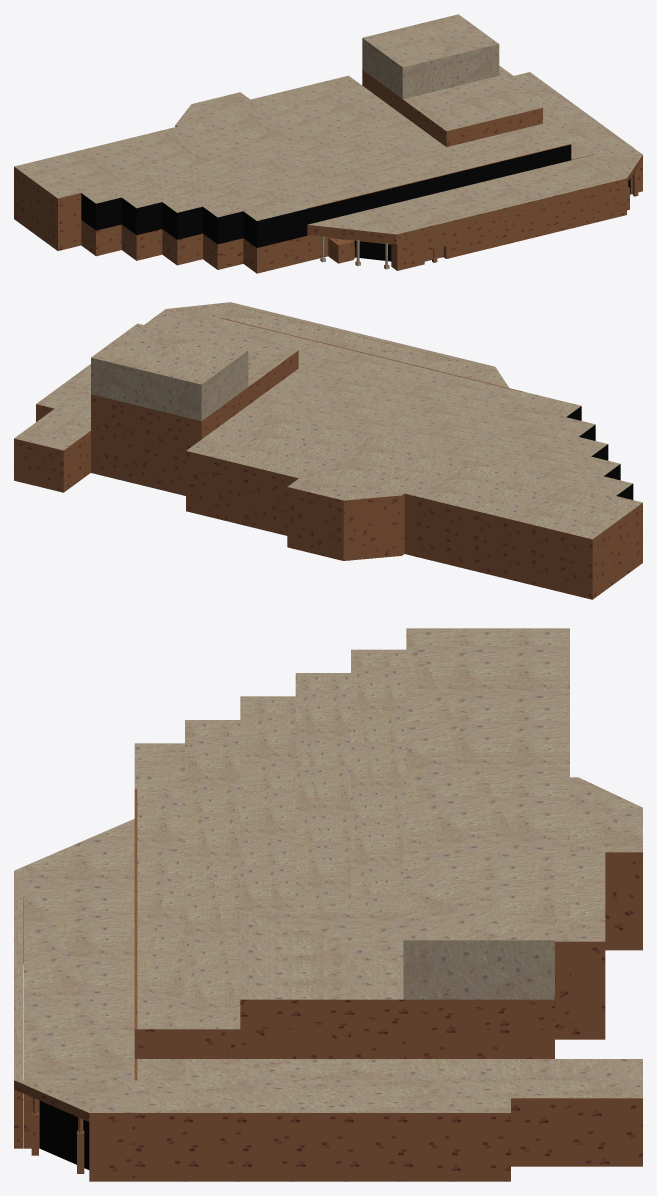
File: ssc.obj
3 renders of one model, top to bottom at view 1: azimuth 30°, elevation 25°; view 2: azimuth 150°, elevation 25°; view 3: azimuth 270°, elevation 25°, orthographic. The views are drawn at different scales.
Visible parts, largest first — view 1: No_Name; view 2: No_Name; view 3: No_Name.
Boxes of the visible parts, x1=… form: No_Name: x1=14, y1=14, x2=642, y2=273; No_Name: x1=14, y1=302, x2=642, y2=599; No_Name: x1=14, y1=628, x2=642, y2=1181.
Bounding box in the file's own units: 26.75 × 5.18 × 15.63.
